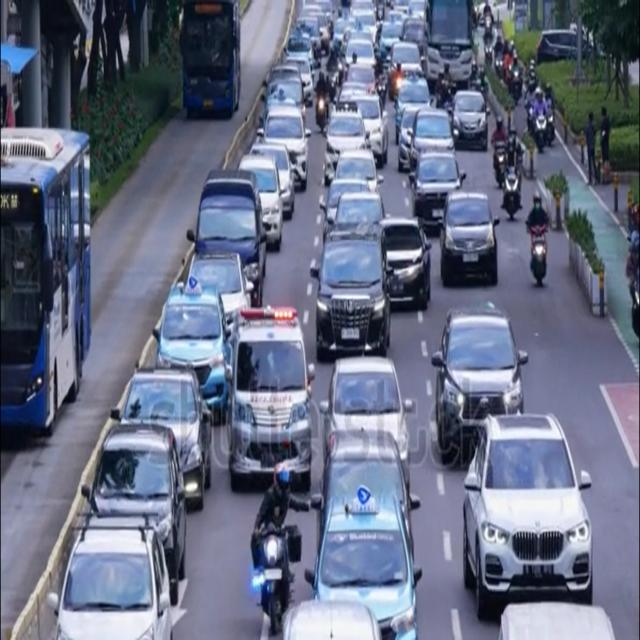Ambulance: (228, 300, 319, 502)
